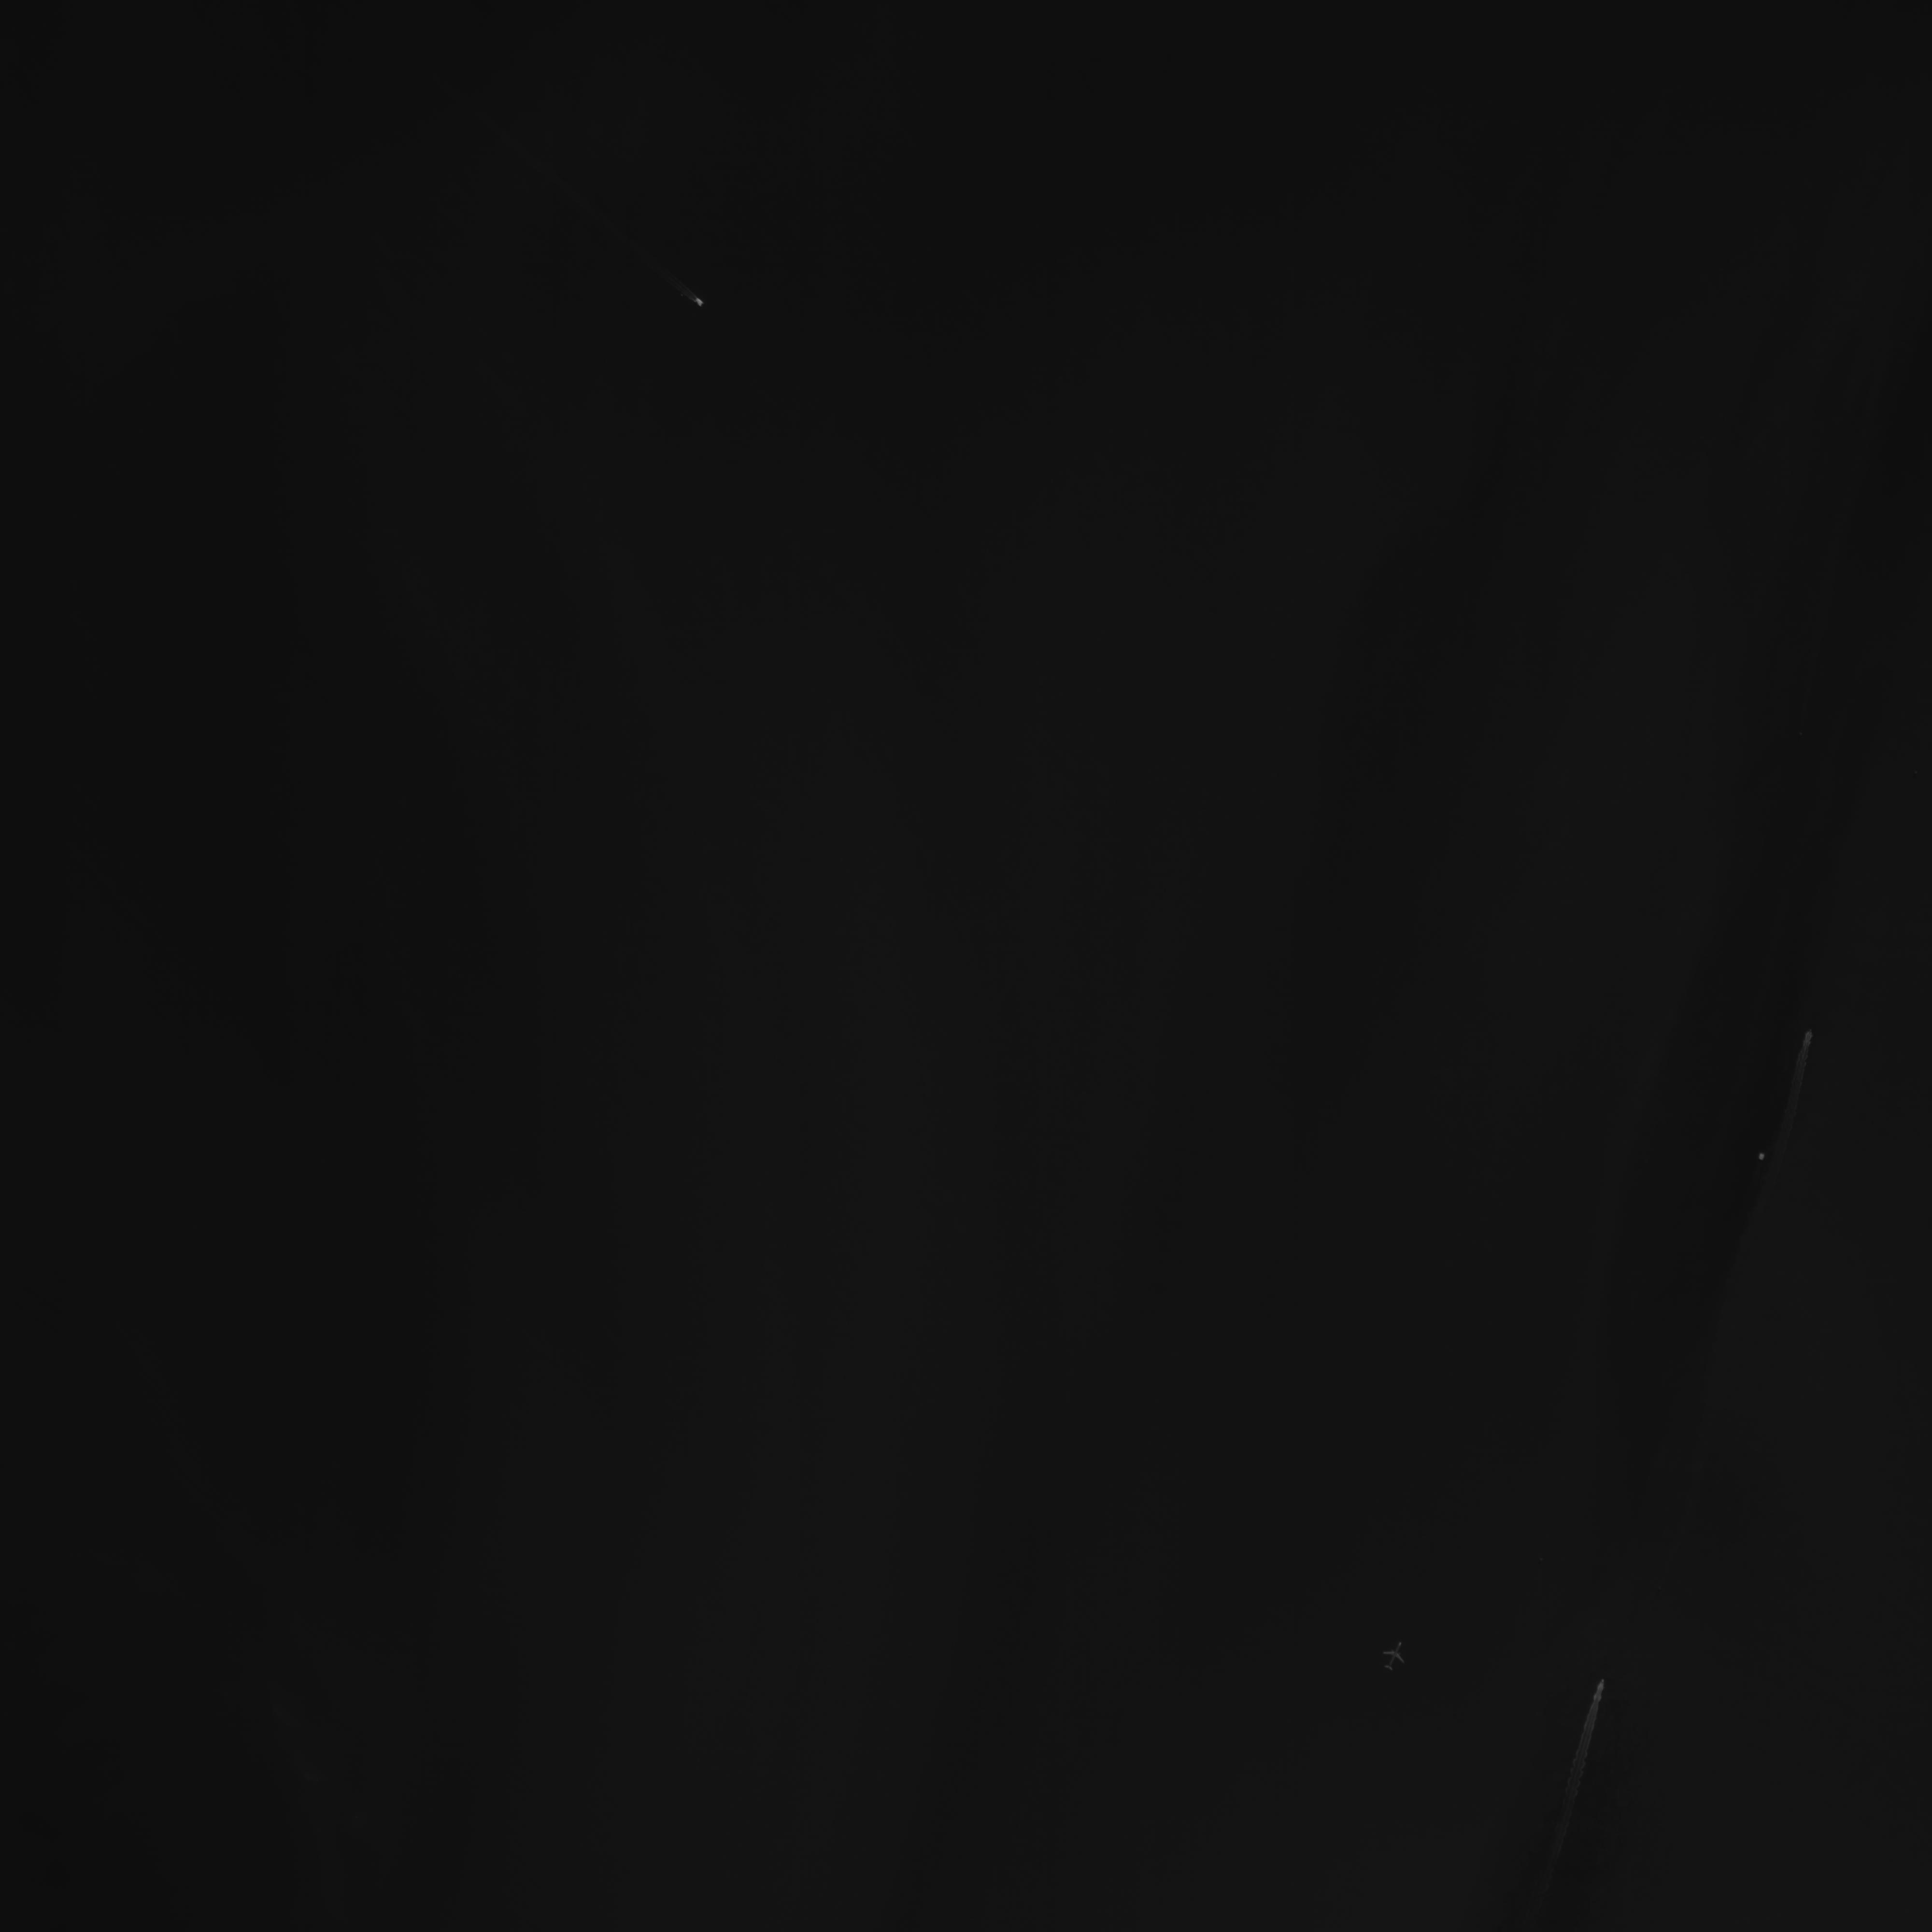plane: (1375, 1635, 1412, 1679)
ship: (694, 297, 704, 308), (1759, 1154, 1766, 1161)
